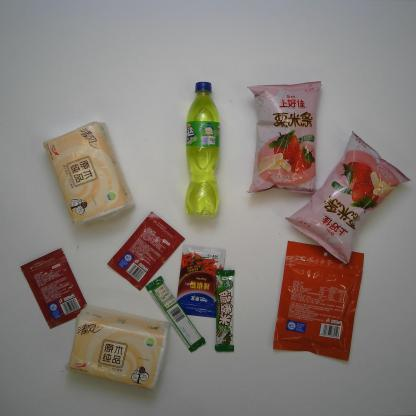Chocolate: (145, 273, 206, 354), (215, 266, 236, 354)
Dried Fruit: (272, 240, 366, 363)
Drink: (183, 79, 222, 218)
Puffed Food: (284, 130, 412, 268), (244, 78, 324, 196)
Seasoner: (102, 208, 188, 294), (15, 245, 91, 330), (172, 243, 230, 325)
Tissue: (41, 120, 137, 230), (64, 302, 174, 392)
